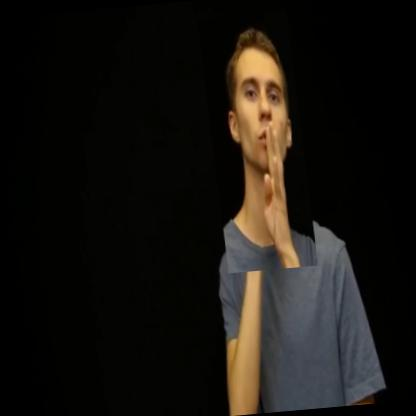Talk: (197, 12, 316, 274)
